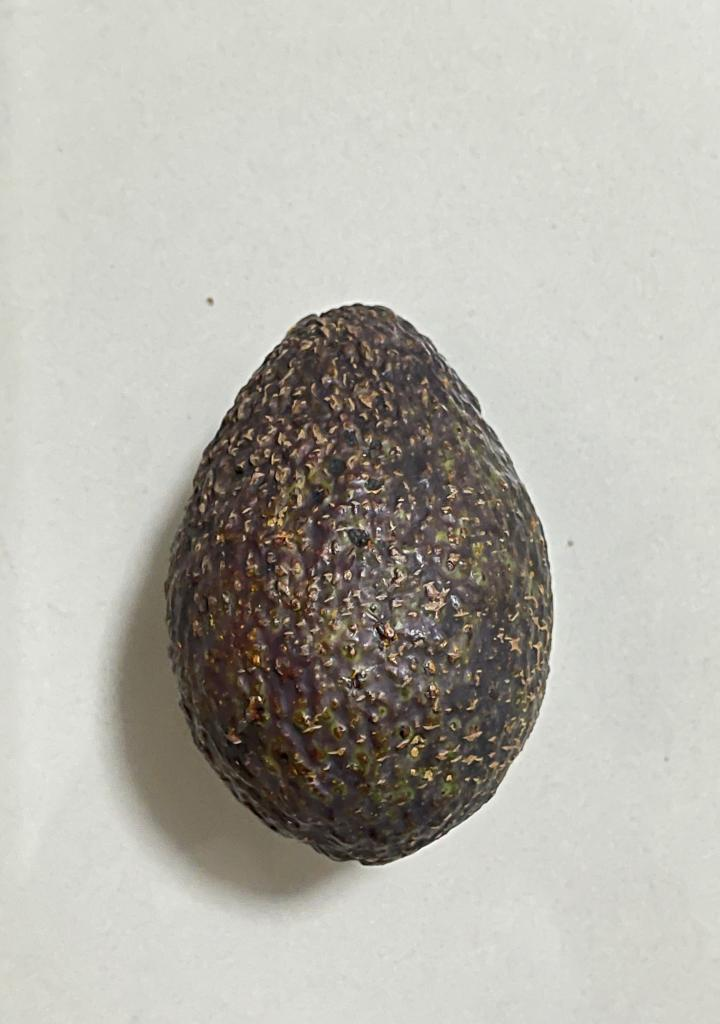Level2: (155, 289, 564, 878)
